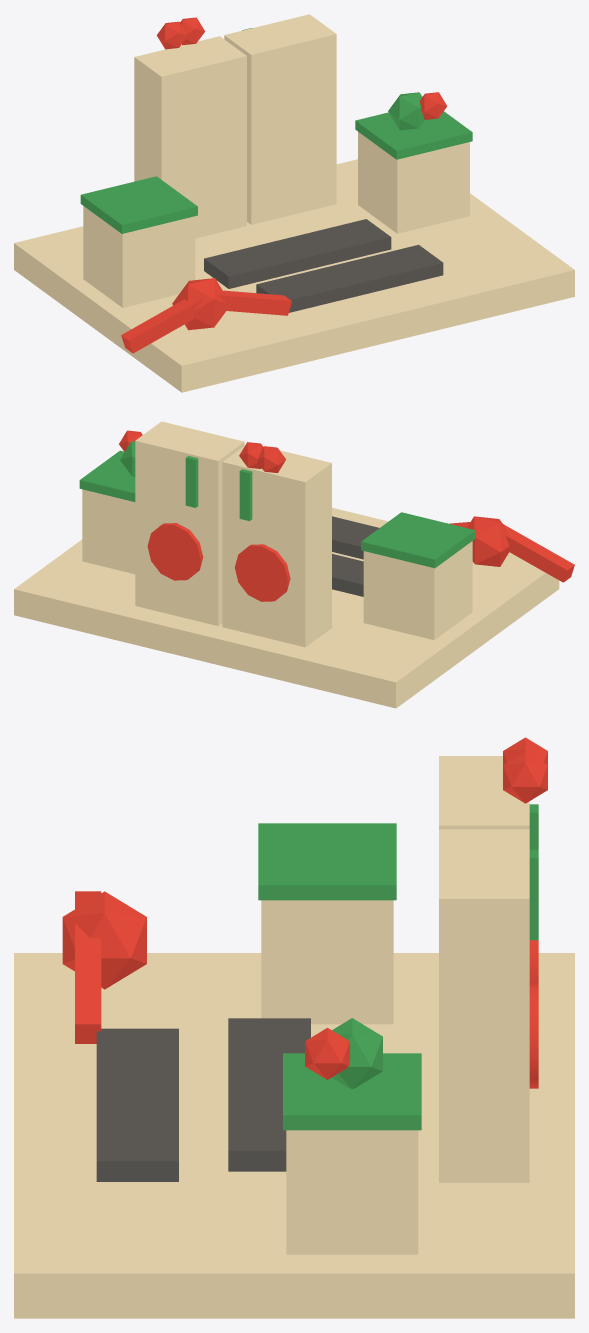
The model's file is cherry.glb.
3 renders of one model, top to bottom at view 1: azimuth 30°, elevation 25°; view 2: azimuth 150°, elevation 25°; view 3: azimuth 270°, elevation 25°, orthographic. The views are drawn at different scales.
Bounding box in the file's own units: 5 × 2.49 × 3.4.
